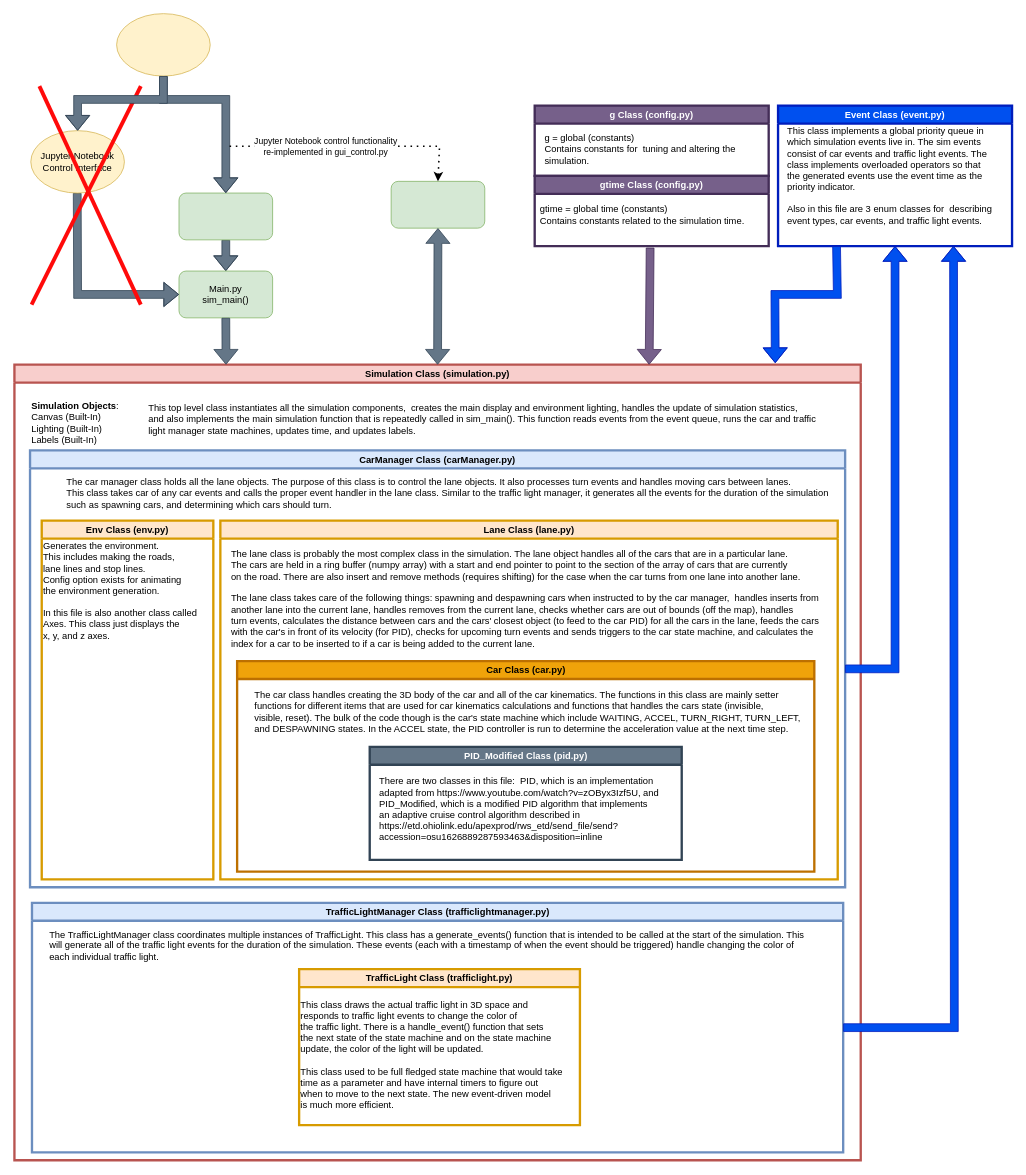
Image size: 1026x1175. Some labels were removed from this diagram. Each missing label, with the centre of its shape:
"gui_control.py" goes at (x=437, y=204).
"jup_note_code.py" goes at (x=225, y=216).
"Terminal Commands" goes at (x=163, y=44).
